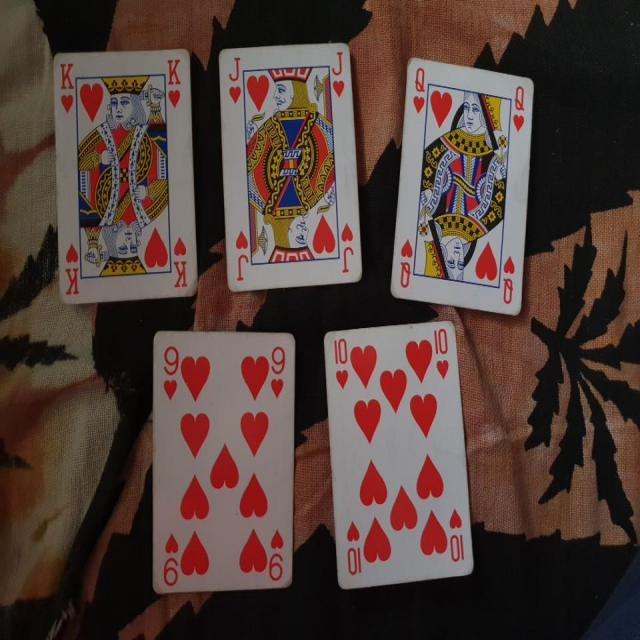10 Hearts: (316, 312, 482, 592)
9 Hearts: (143, 321, 303, 604)
J Hearts: (213, 33, 368, 297)
K Hearts: (49, 47, 205, 307)
Q Hearts: (385, 49, 537, 320)
